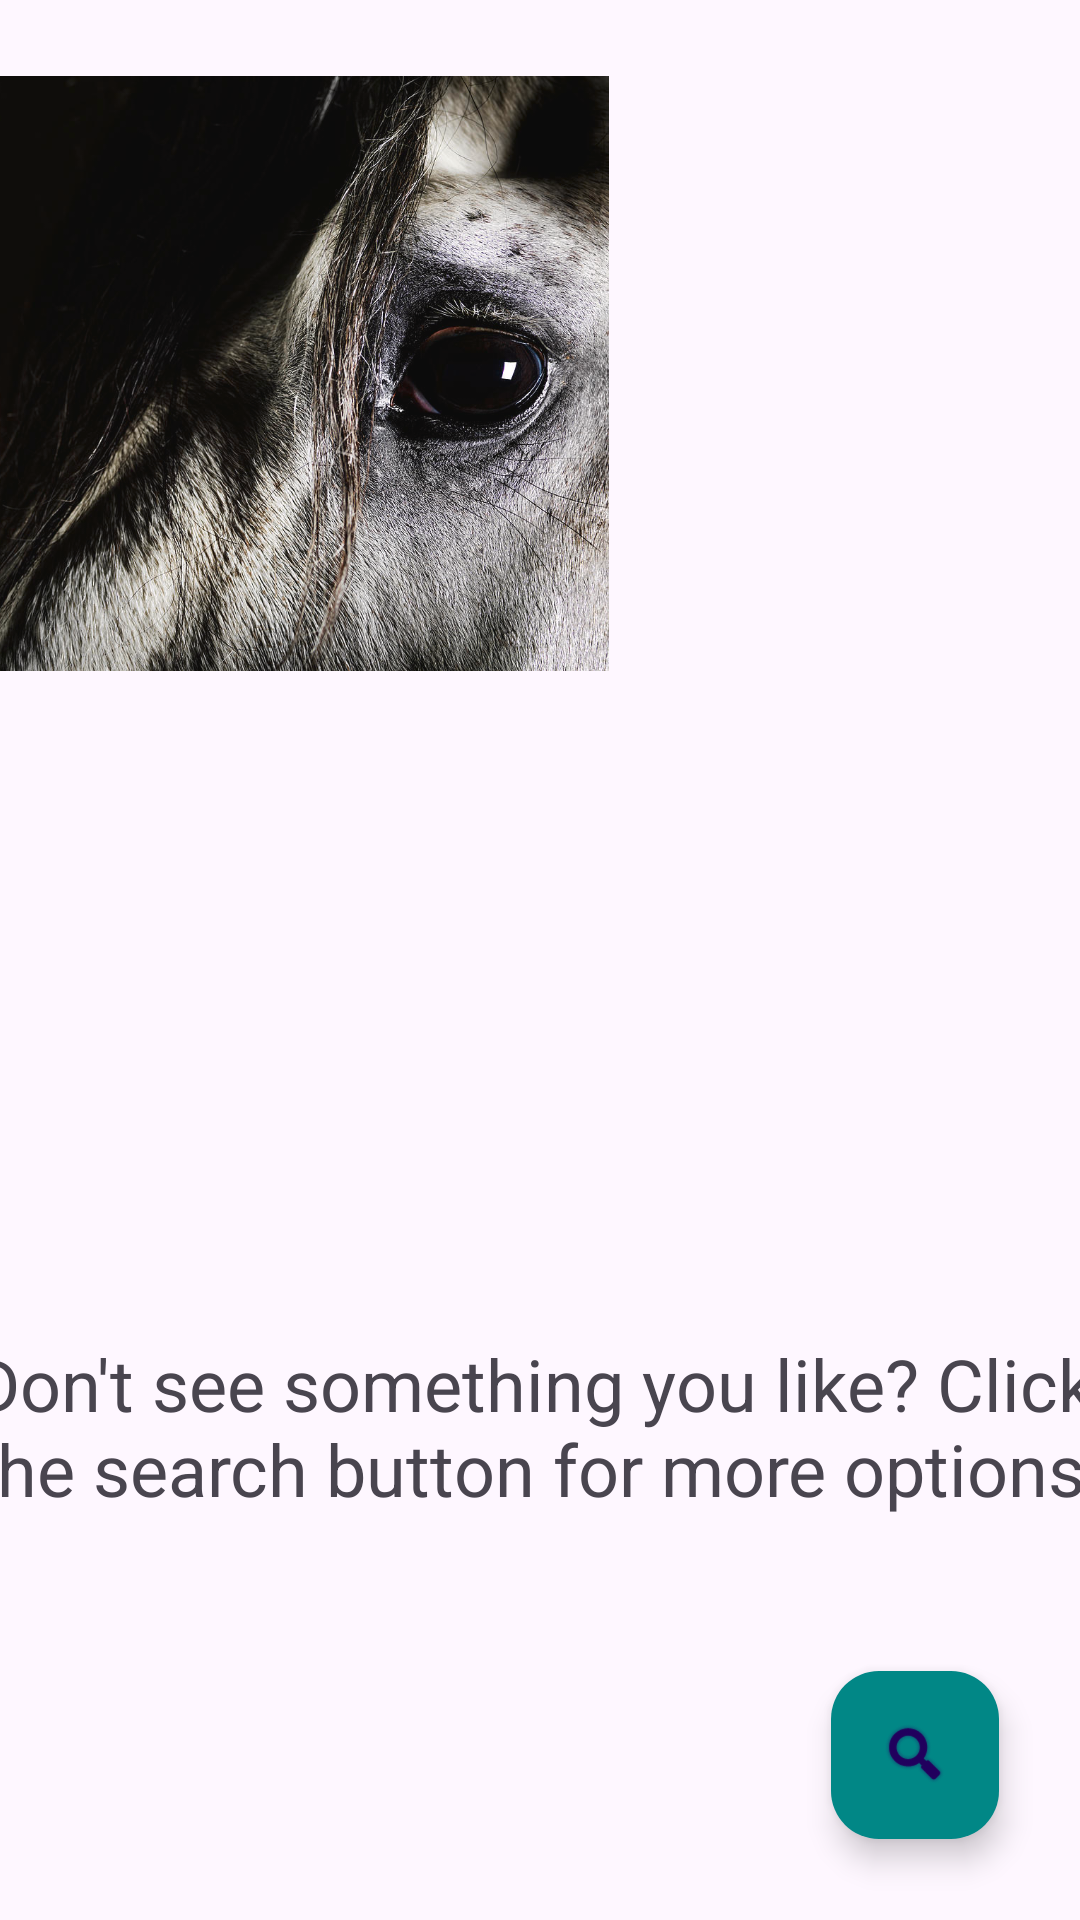

Icons on this 1080w x 1920h Android screen, each with the point to tap as [x,y]:
search category: [915,1755]
